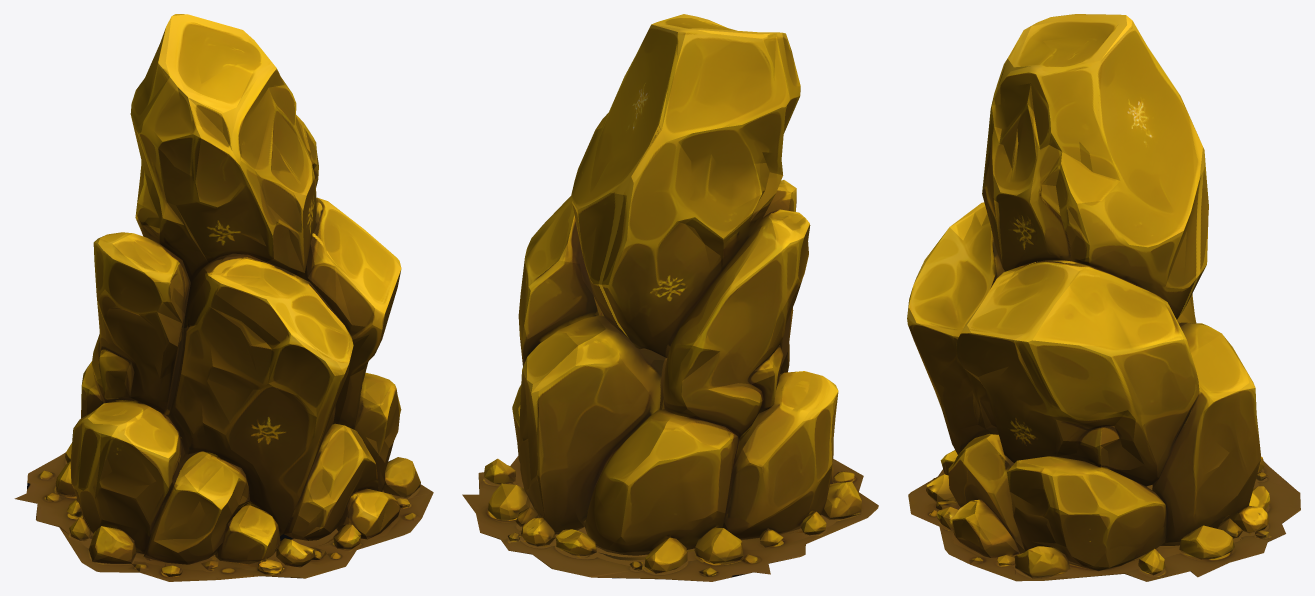
Rendered from SM_Ore09.fbx.
3 renders of one model, left to right at view 1: azimuth 30°, elevation 25°; view 2: azimuth 150°, elevation 25°; view 3: azimuth 270°, elevation 25°, orthographic. The views are drawn at different scales.
Parts seen in each view (by area): view 1: Ore09; view 2: Ore09; view 3: Ore09.
Part boxes in pixels (bbox=[...]): Ore09: bbox=[14, 14, 433, 581]; Ore09: bbox=[462, 14, 878, 581]; Ore09: bbox=[907, 14, 1300, 581].
Bounding box in the file's own units: 123 × 170 × 129.
1 material, 1 textured.
